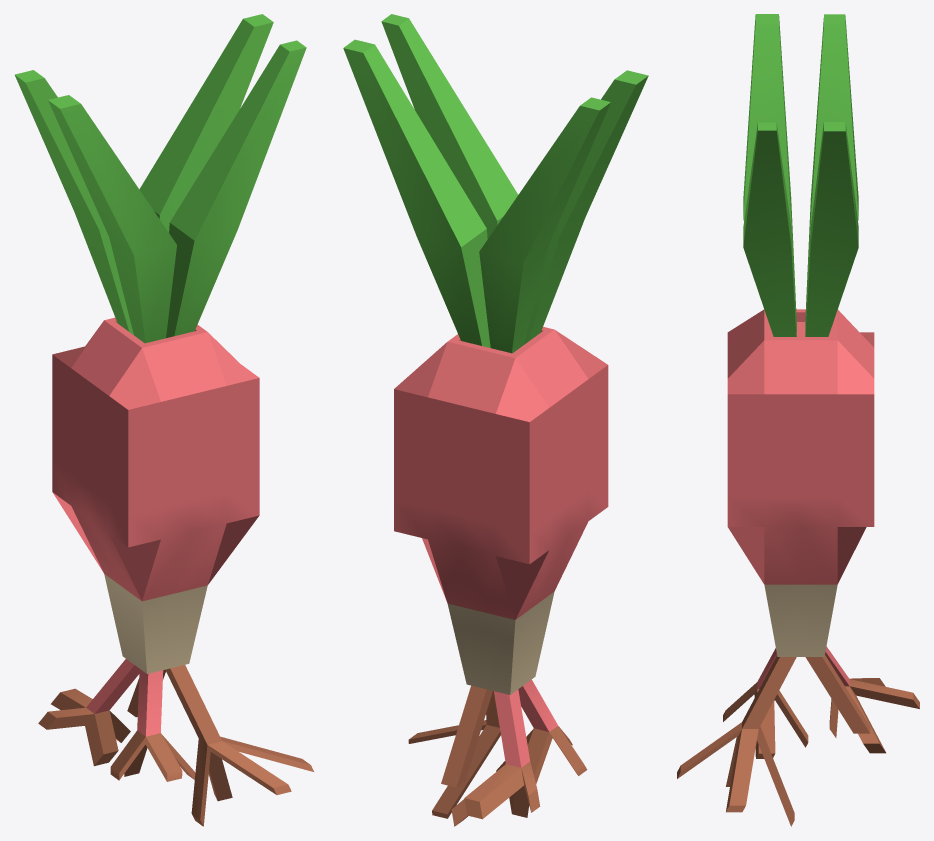
Rendered from turnip.fbx.
3 views of the same model, side by side, from view 1: azimuth 30°, elevation 25°; view 2: azimuth 150°, elevation 25°; view 3: azimuth 270°, elevation 25° (orthographic). The views are drawn at different scales.
Parts seen in each view (by area): view 1: turnip; view 2: turnip; view 3: turnip.
Boxes of the visible parts, bbox=[...] form: turnip: bbox=[15, 14, 313, 826]; turnip: bbox=[343, 14, 648, 826]; turnip: bbox=[677, 14, 919, 826].
Bounding box in the file's own units: 379 × 1089 × 332.
